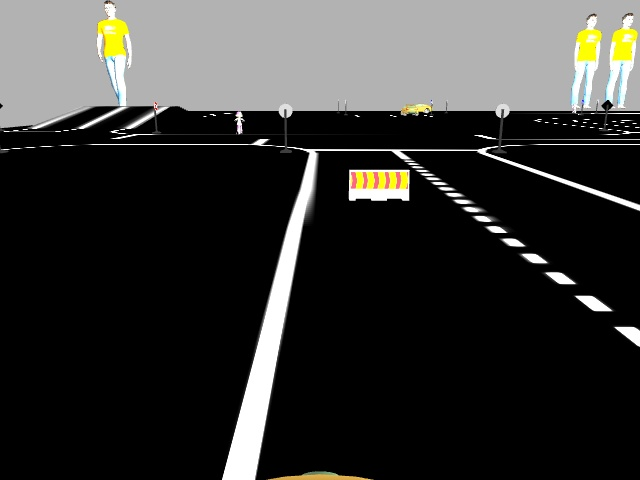ClosedRoadStand: (349, 169, 408, 199)
